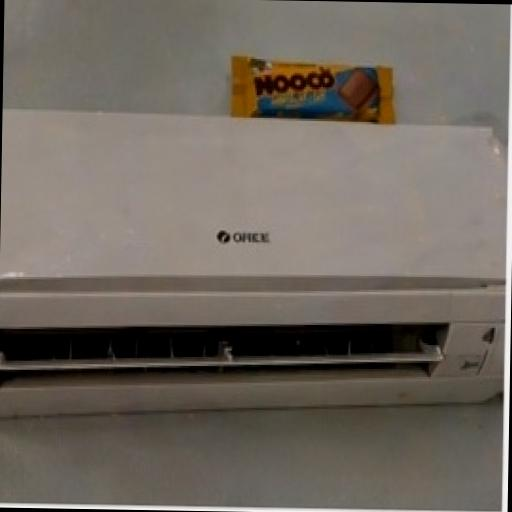nooco: (226, 37, 425, 156)
